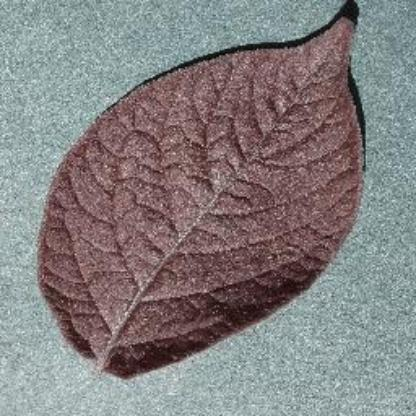Healthy-plant: (47, 11, 370, 381)
